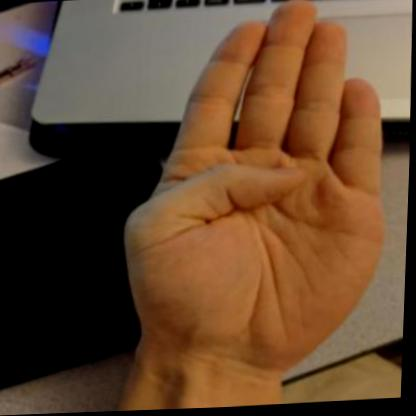B: (97, 0, 413, 399)
